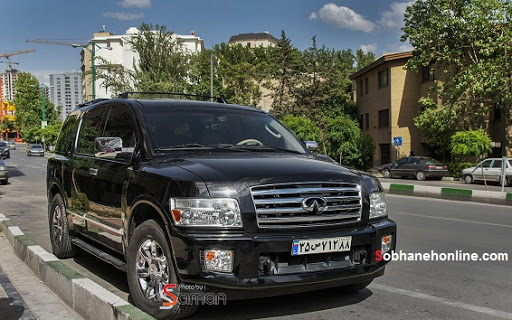car: (291, 234, 353, 254)
